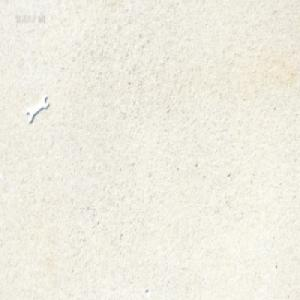Wrench: (26, 91, 49, 123)
